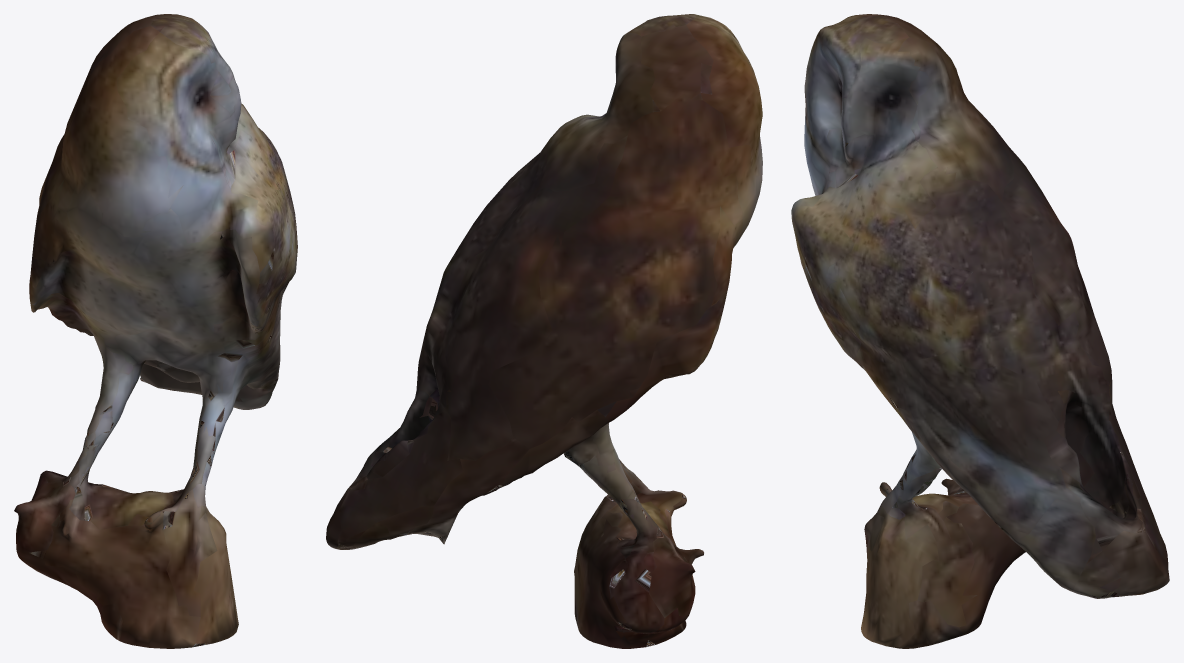
Rendered from owl.glb.
The picture shows the model from 3 angles, left to right: view 1: azimuth 30°, elevation 25°; view 2: azimuth 150°, elevation 25°; view 3: azimuth 270°, elevation 25°; orthographic projection. The views are drawn at different scales.
Visible parts, largest first — view 1: material0-material; view 2: material0-material; view 3: material0-material.
Boxes of the visible parts, x1,y1,x2,y2 form: material0-material: [14, 14, 297, 648]; material0-material: [326, 14, 762, 648]; material0-material: [791, 14, 1169, 648].
Size of the model in its own units: 0.1916 by 0.3749 by 0.2182.
1 material, 1 textured.
